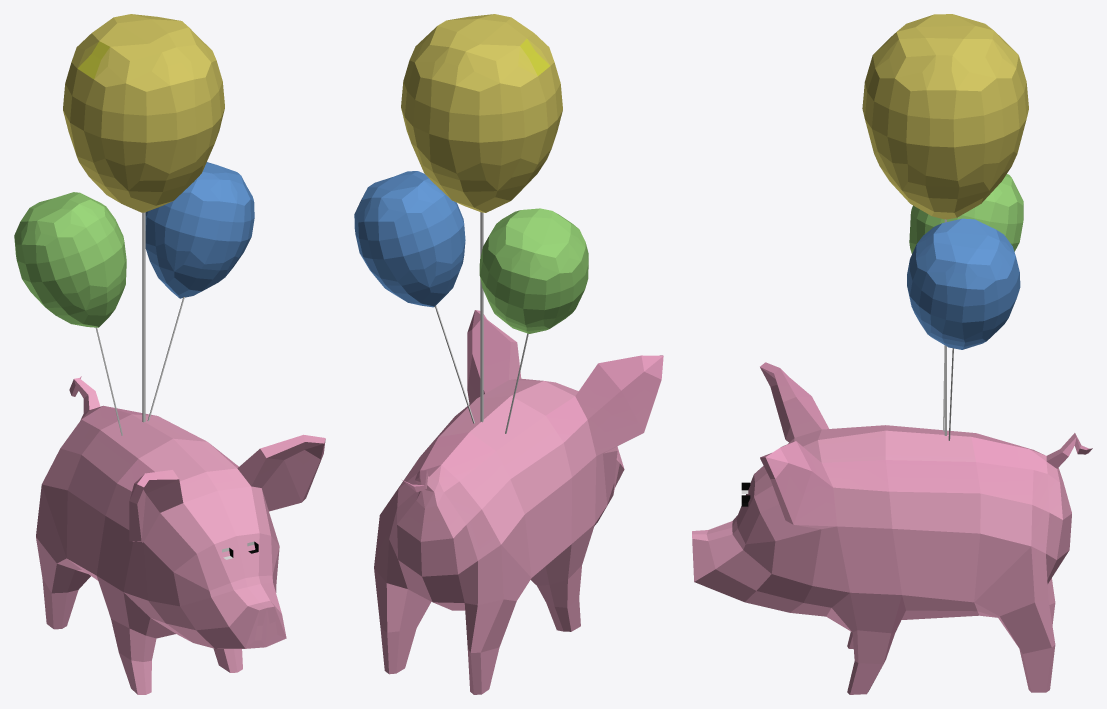
The model's file is enemy.glb.
3 renders of one model, left to right at view 1: azimuth 30°, elevation 25°; view 2: azimuth 150°, elevation 25°; view 3: azimuth 270°, elevation 25°, orthographic. The views are drawn at different scales.
Parts seen in each view (by area): view 1: Pig:PM3D_ZSphere_1; view 2: Pig:PM3D_ZSphere_1; view 3: Pig:PM3D_ZSphere_1.
Boxes of the visible parts, <box> form: Pig:PM3D_ZSphere_1: <box>14,14,325,694</box>; Pig:PM3D_ZSphere_1: <box>354,14,663,694</box>; Pig:PM3D_ZSphere_1: <box>692,14,1092,694</box>.
Bounding box in the file's own units: 2.12 × 5.62 × 3.2.
